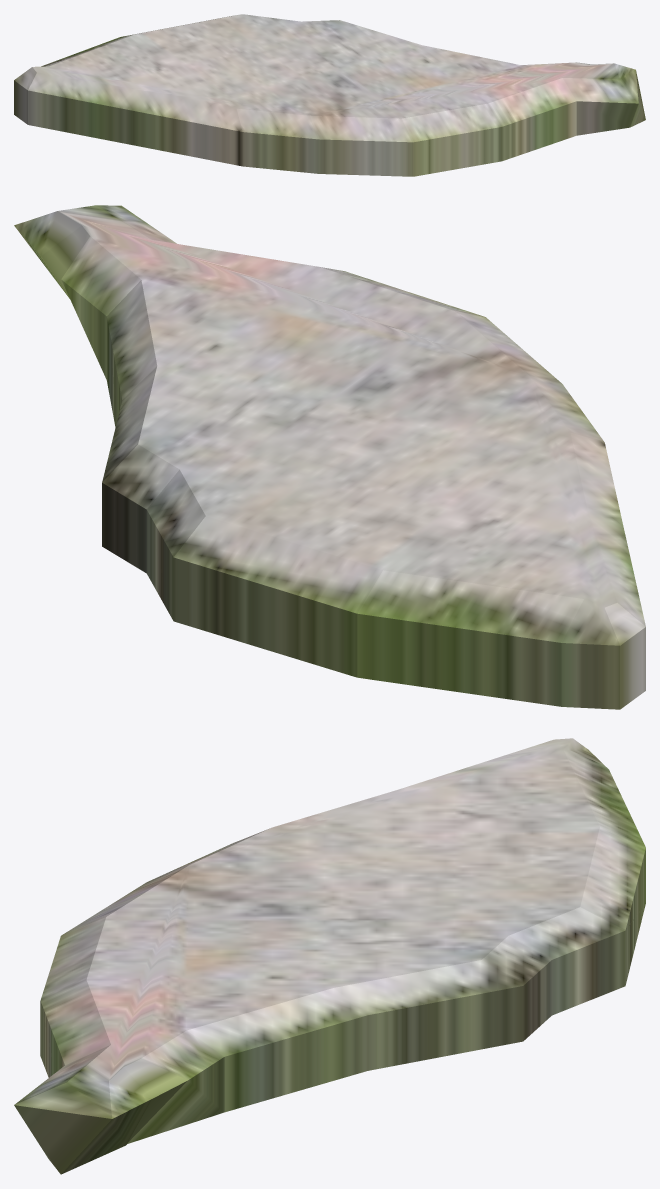
The model's file is stone.10.fbx.
The picture shows the model from 3 angles, top to bottom: view 1: azimuth 30°, elevation 25°; view 2: azimuth 150°, elevation 25°; view 3: azimuth 270°, elevation 25°; orthographic projection. The views are drawn at different scales.
Parts seen in each view (by area): view 1: stone.10; view 2: stone.10; view 3: stone.10.
Part boxes in pixels (x1,y1,x2,y2): stone.10: (14, 14, 645, 176); stone.10: (14, 205, 645, 709); stone.10: (14, 738, 645, 1174).
Size of the model in its own units: 102 by 10.34 by 72.94.
1 material, 1 textured.
